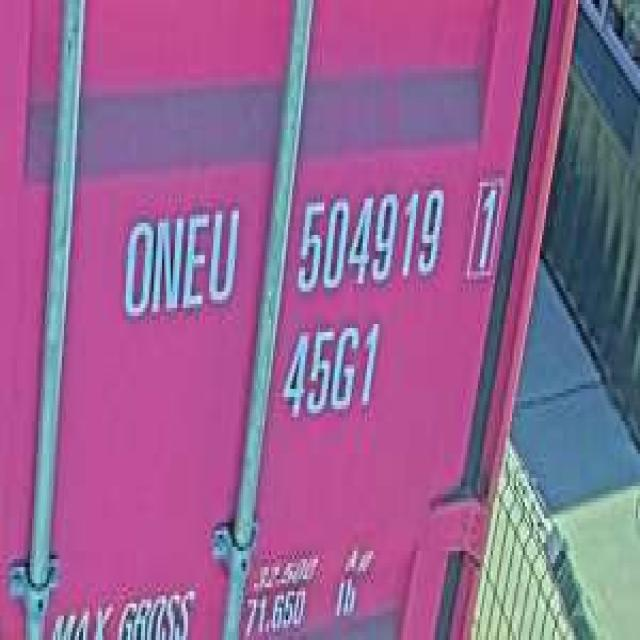dv: (465, 170, 505, 282)
owner: (117, 195, 241, 328)
serial: (294, 178, 446, 300)
size: (277, 316, 384, 425)
